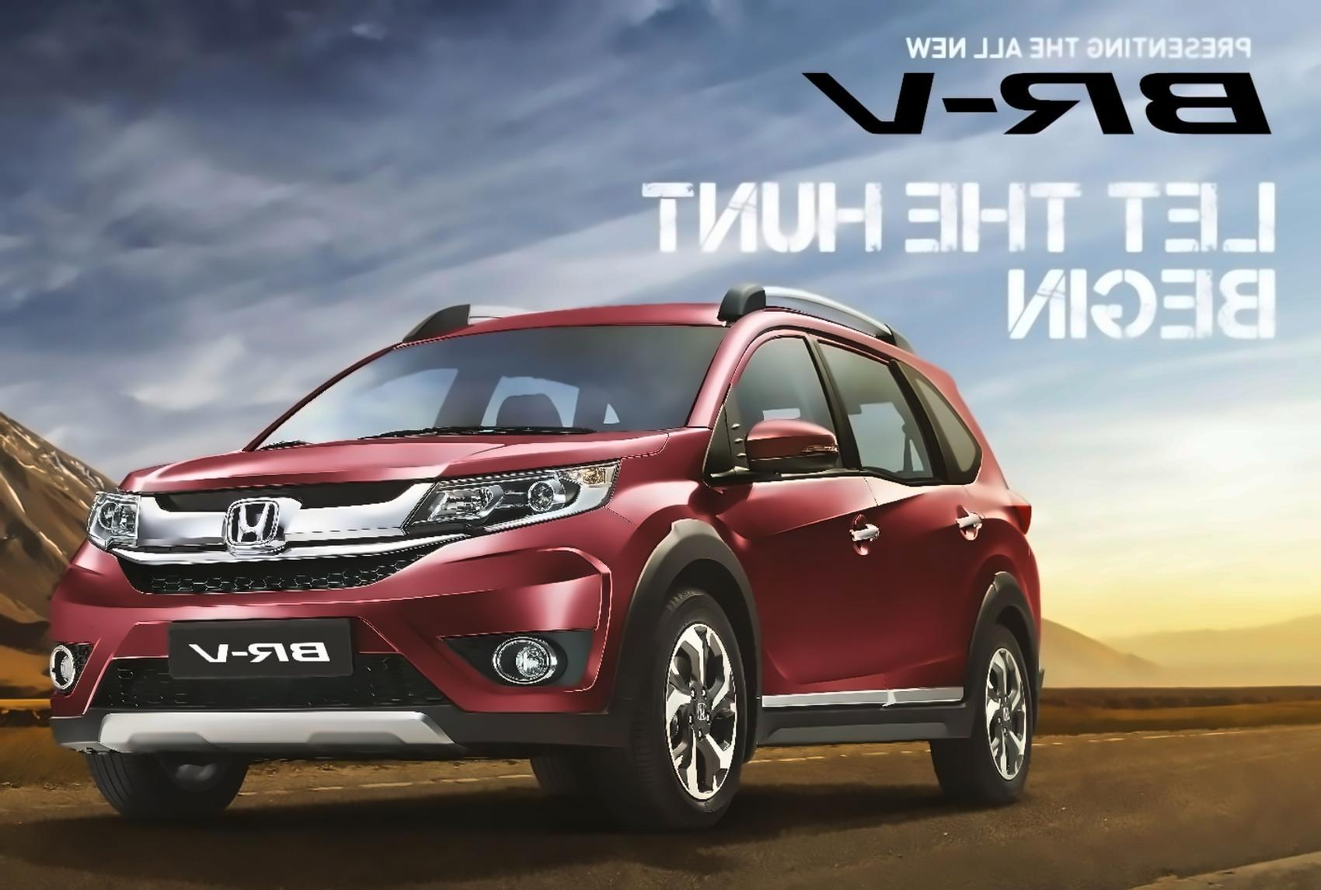Car hood: (111, 427, 675, 499)
Fender - -F-L-: (605, 422, 776, 725)
Front bumper: (34, 539, 667, 763)
Headlight - -L-: (400, 450, 630, 544)
Headlight - -R-: (78, 476, 151, 555)
Passenger-s door - -F-L-: (723, 308, 896, 720)
Passenger-s door - -R-L-: (859, 328, 991, 728)
Rear bumper: (962, 460, 1044, 613), (1017, 549, 1076, 726)
Rear light - -L-: (1001, 478, 1043, 540)
Side bumper - -L-: (743, 683, 983, 754)
Side mirror - -L-: (727, 411, 849, 489)
